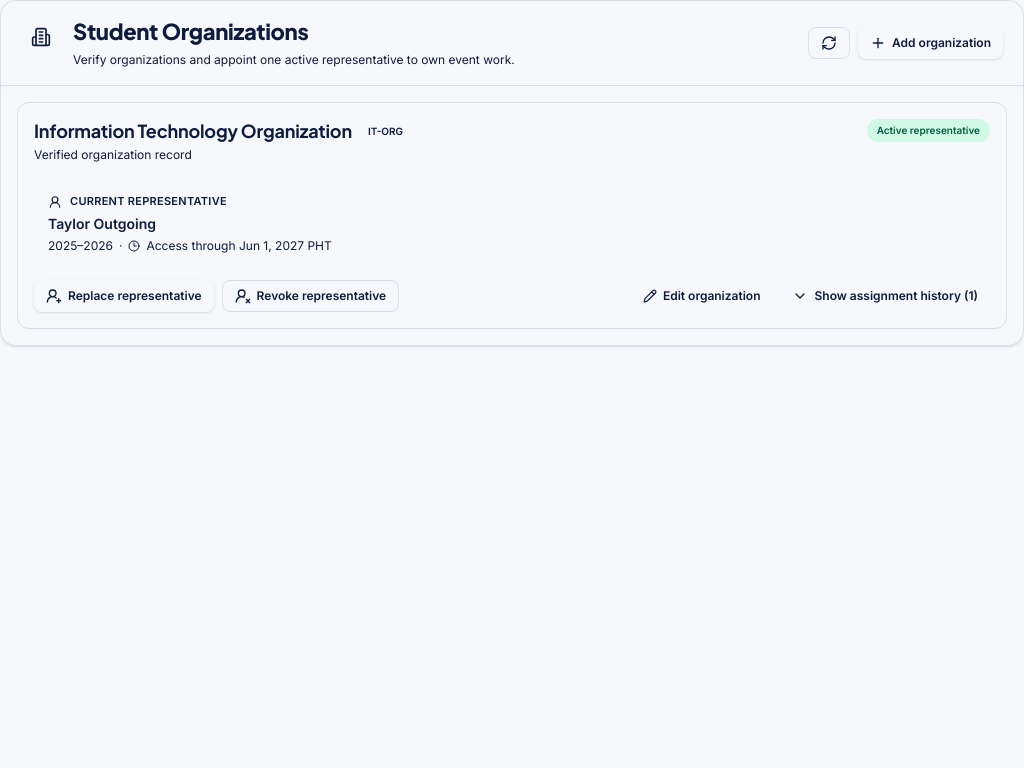
Test case: AdminOrganizationsPanel › reloads assignment state after a stale-dialog conflict and explains the change
Click the button "Replace representative". click: (124, 296)
box: [34,280,214,312]
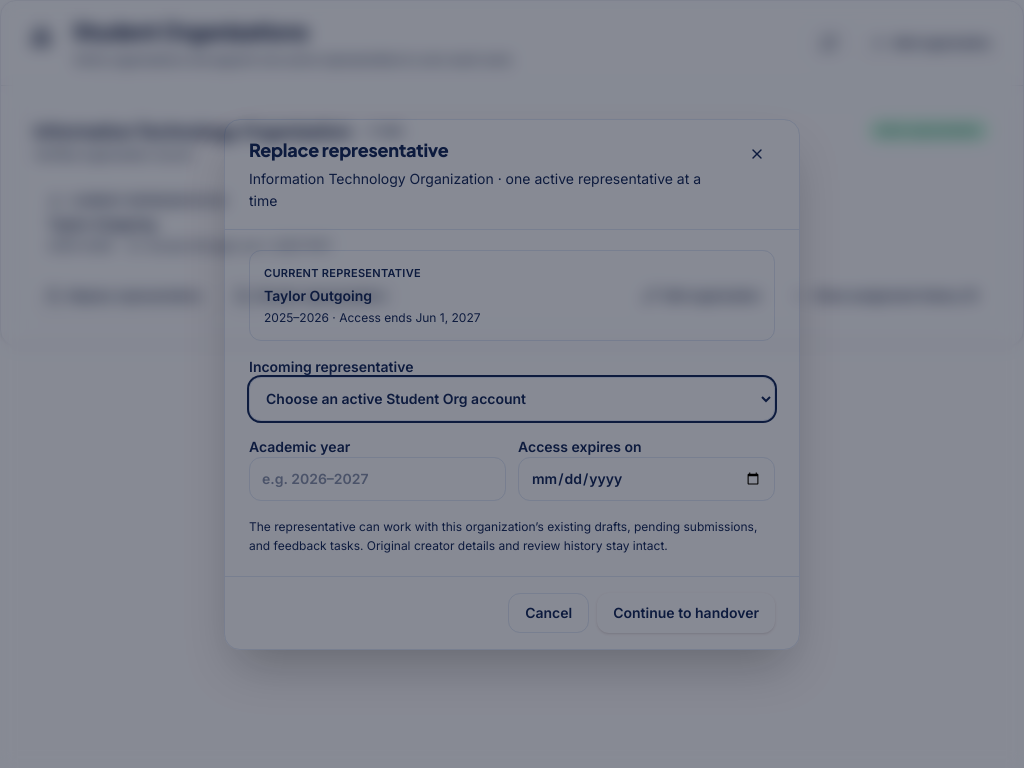
Select "Jamie Incoming · jamie@example.test" in the dropdown labelled "Incoming representative". click: (512, 398)
box: [249,376,775,420]
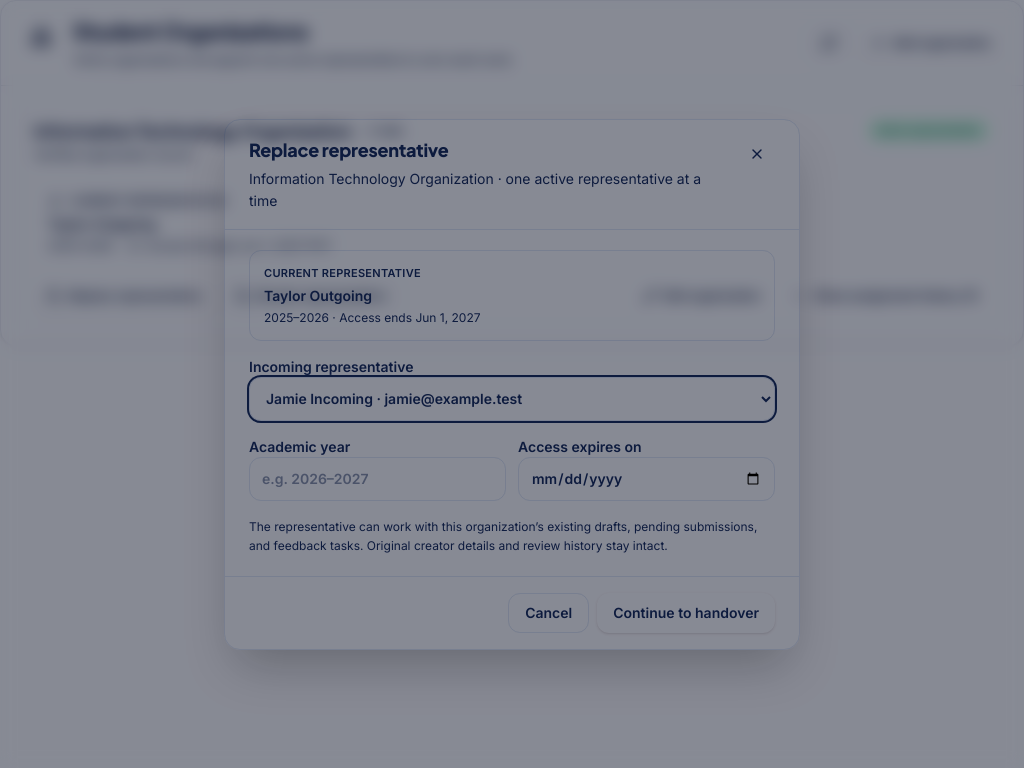
Type "2026–2027" into the field labelled "Academic year". click: (378, 478)
box: [249,456,506,500]
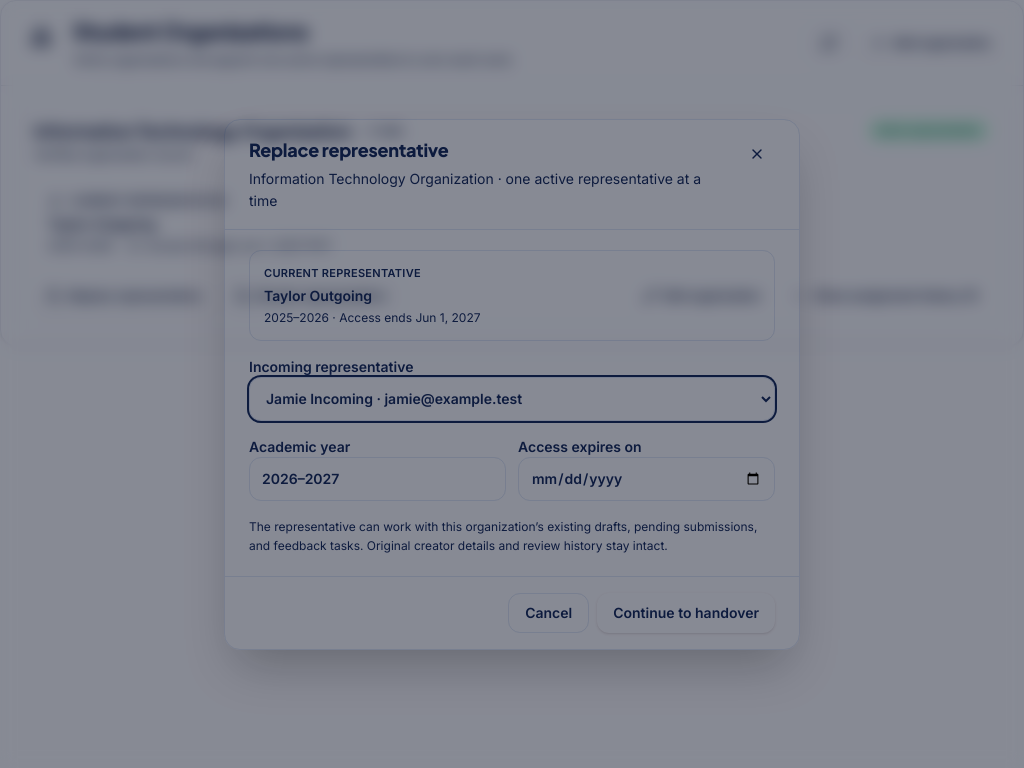
Type "2027-06-30" into the date field labelled "Access expires on". click: (646, 478)
box: [518,456,775,500]
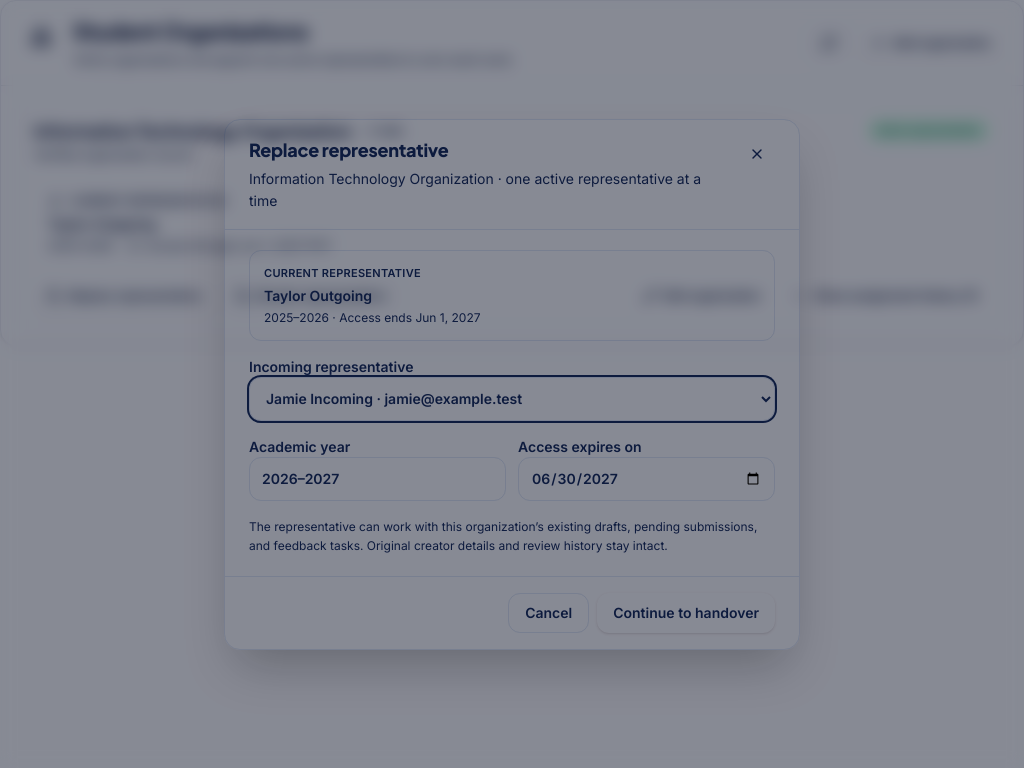
Click the button "Continue to handover". click: (686, 612)
box: [597,592,775,632]
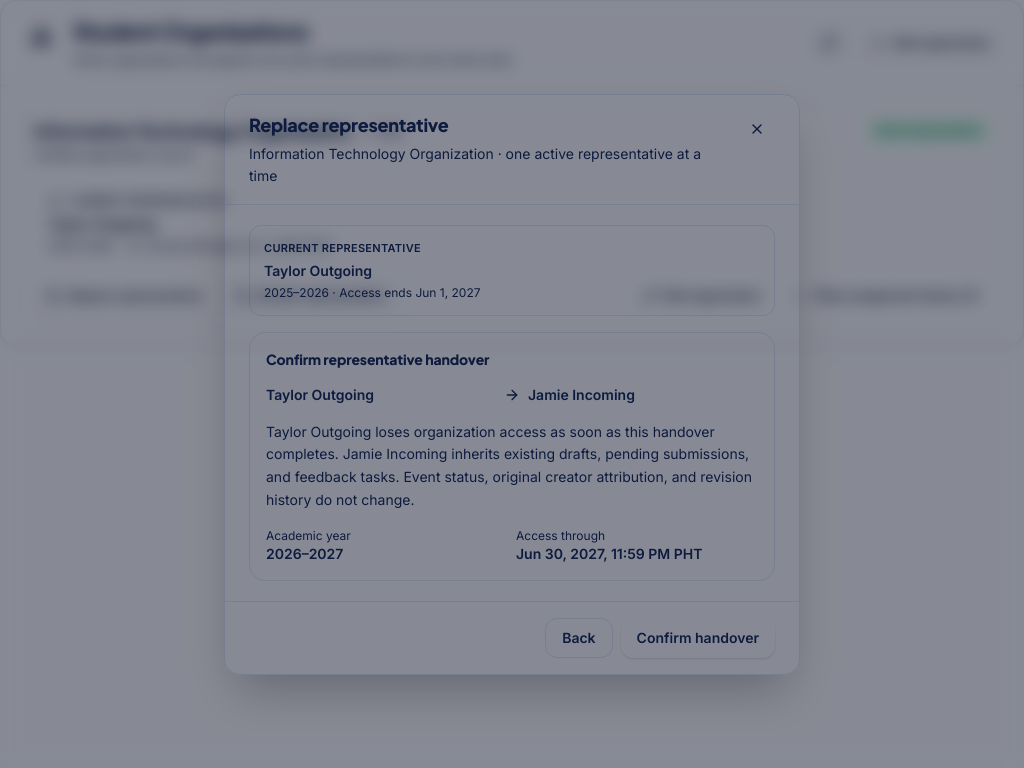
Click the button "Confirm handover". click: (698, 638)
box: [621,618,775,658]
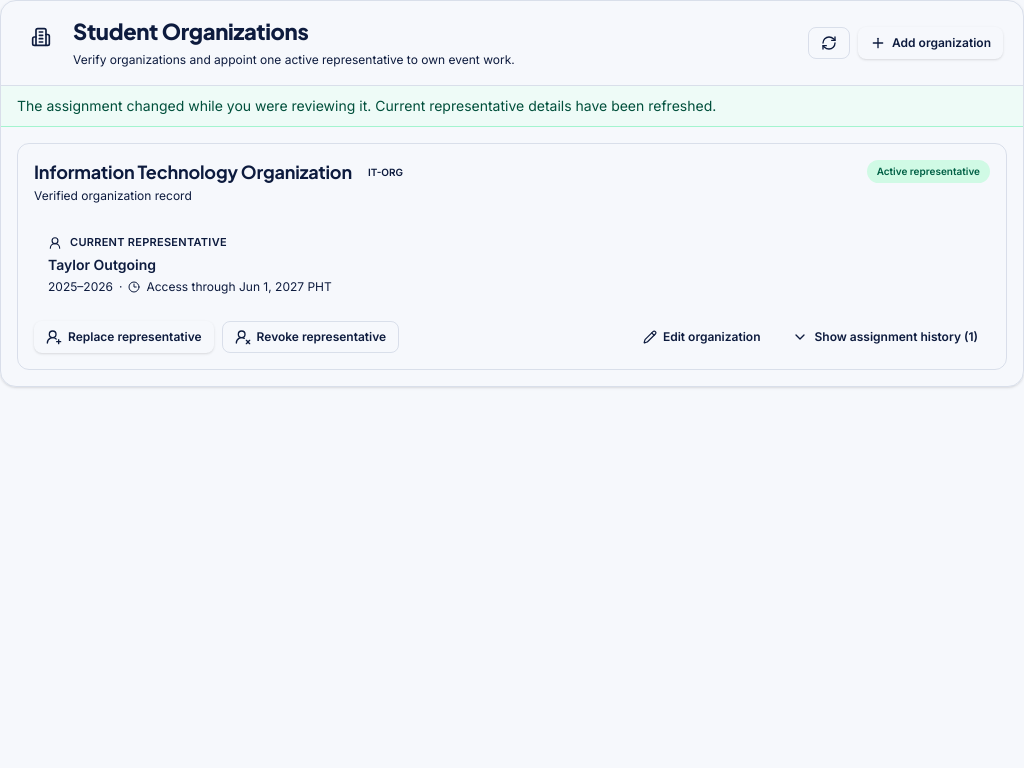
Expected: the text "assignment changed while you were reviewing it. Current representative details have been refreshed" is shown, [17,97,716,114]
